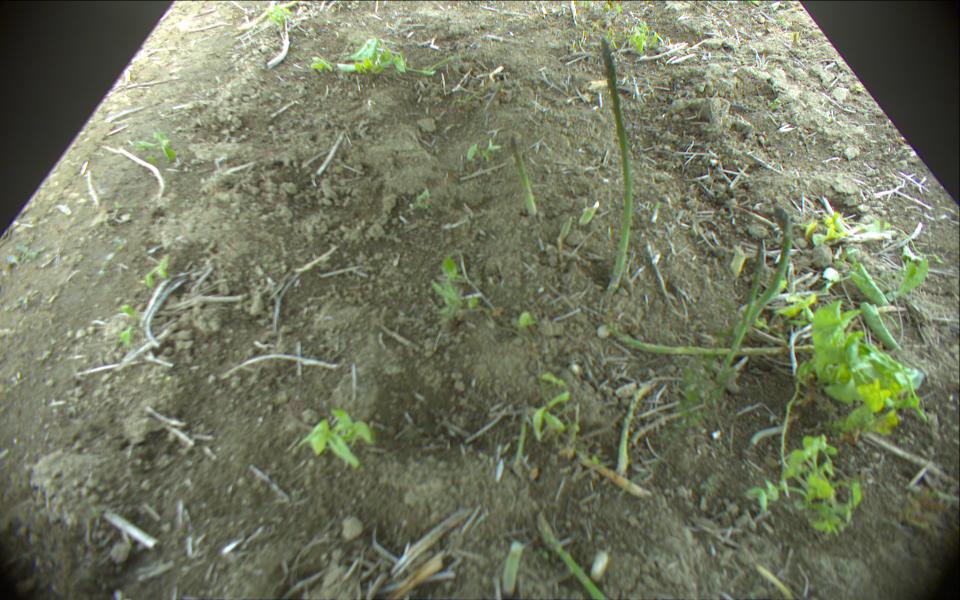aspa: (599, 40, 634, 298), (606, 320, 852, 356), (714, 240, 767, 389), (534, 515, 609, 600), (745, 213, 794, 333), (615, 382, 655, 476), (508, 136, 536, 216), (500, 539, 524, 600)
